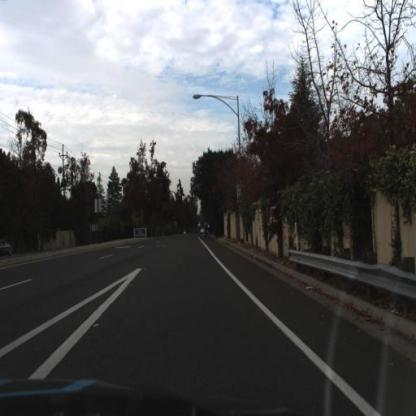car: (1, 240, 14, 258), (201, 229, 206, 235)
pedestrian: (199, 222, 202, 238), (206, 223, 209, 238), (208, 223, 211, 237)
